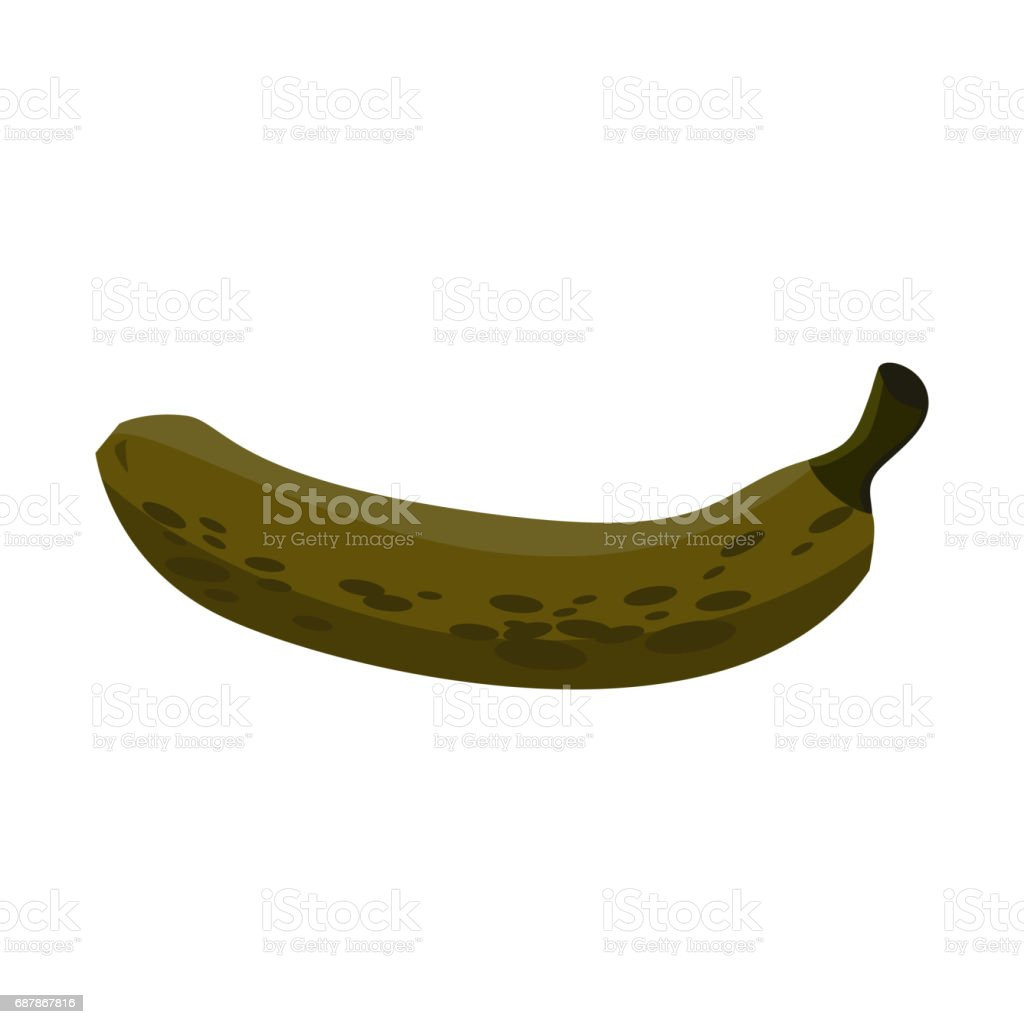looks_defective: (68, 266, 1024, 910)
